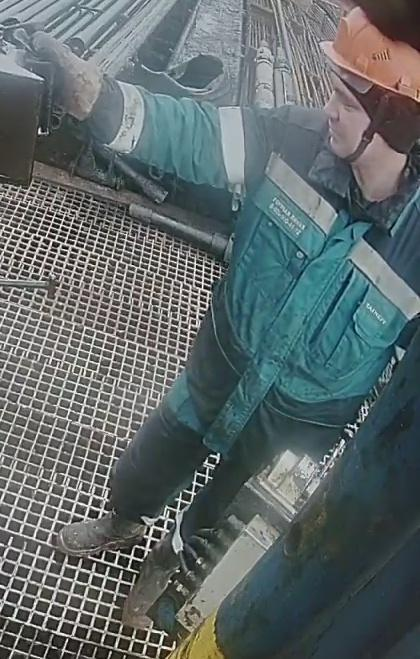gloves: (27, 31, 114, 131)
helmet: (318, 0, 420, 107)
vest: (175, 107, 419, 457)
